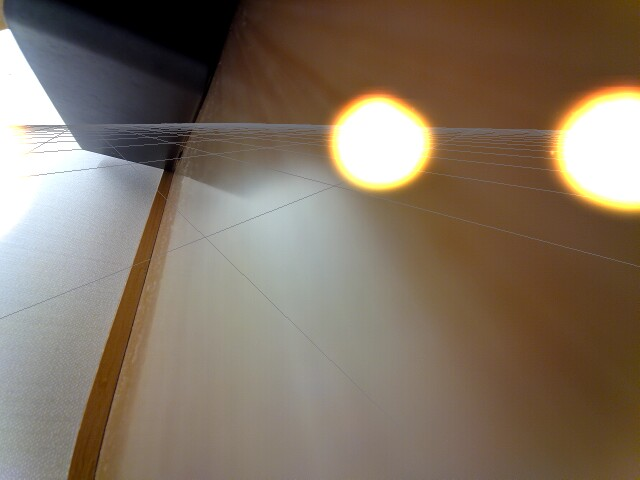firebig: (547, 73, 640, 214)
